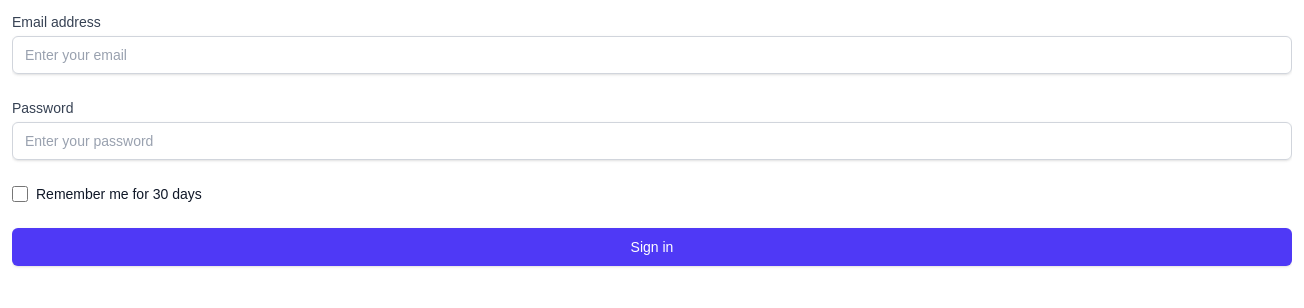
Scenario: LoginForm › should show validation error for short password
Type "test@example.com" into the field labelled "Email address" at (652, 55), box [12,36,1292,74]
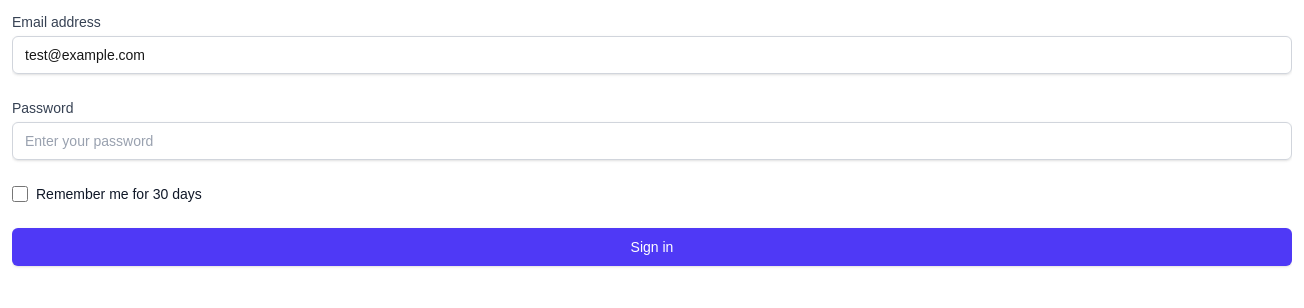
Type "123" into the password field labelled "Password" at (652, 141), box [12,122,1292,160]
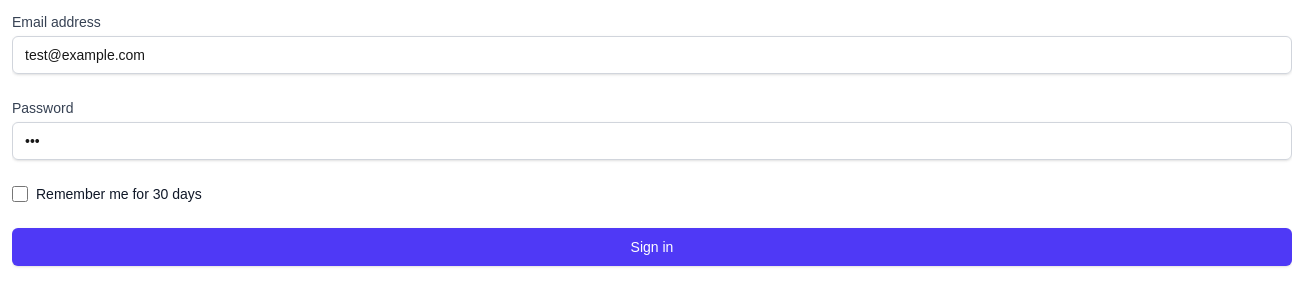
Click the button "Sign in" at (652, 247), box [12,228,1292,266]
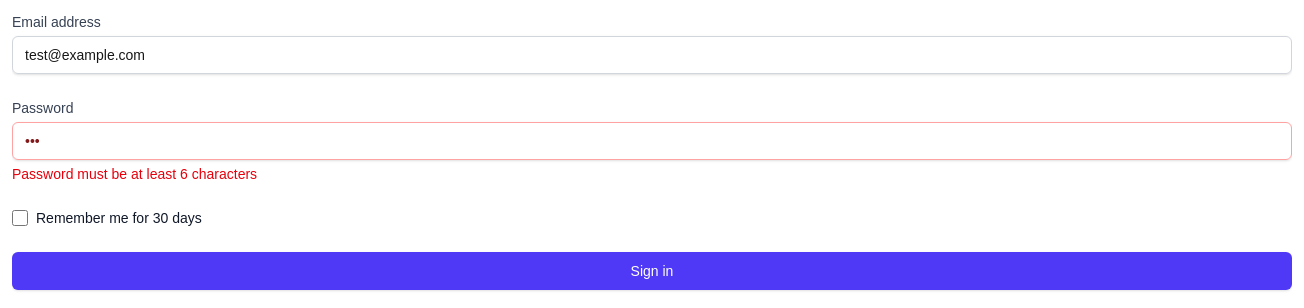
expect the text "Password must be at least 6 characters" is shown: met, box [12,166,257,182]
